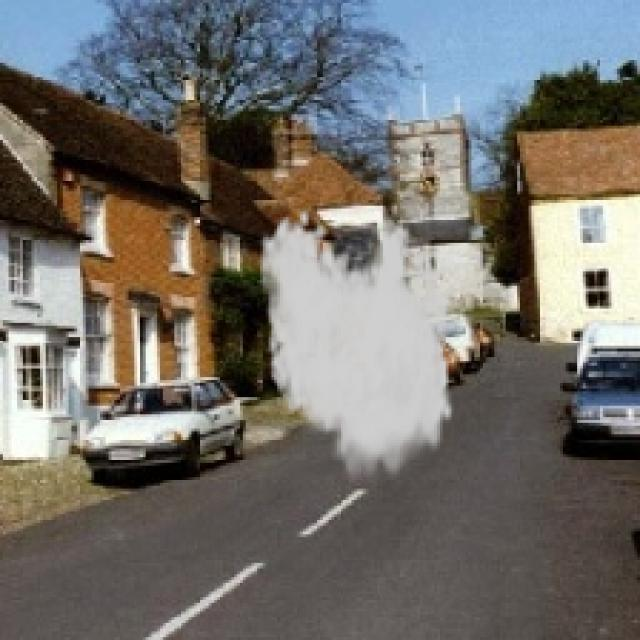Smoke: (257, 206, 466, 488)
